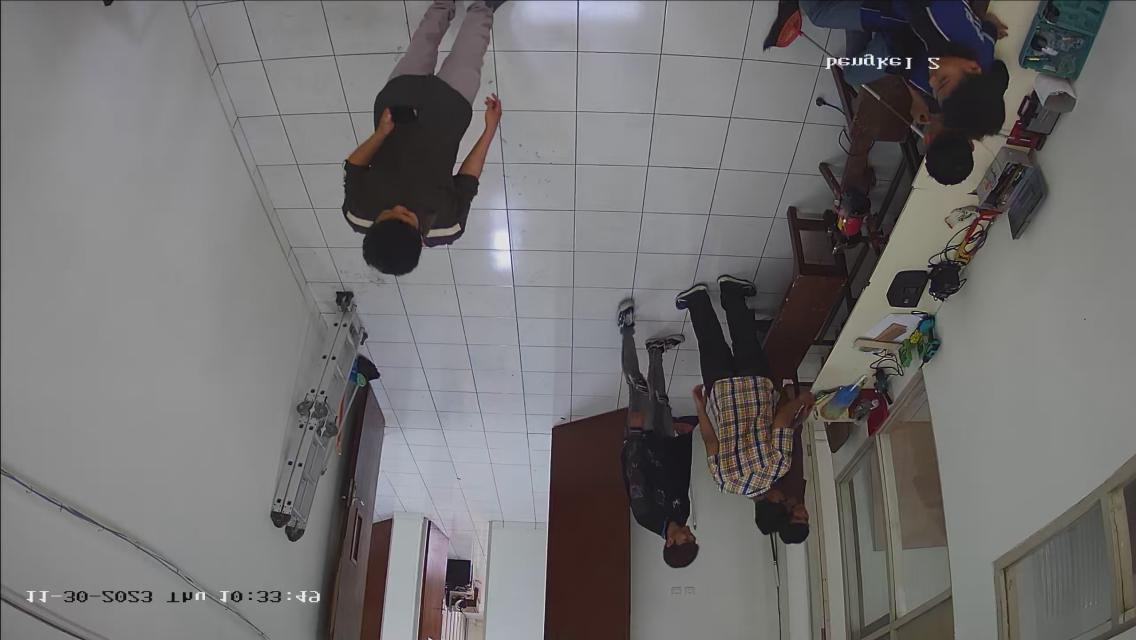Person-Crowd: (329, 0, 520, 284), (700, 275, 796, 542), (617, 294, 682, 579)
